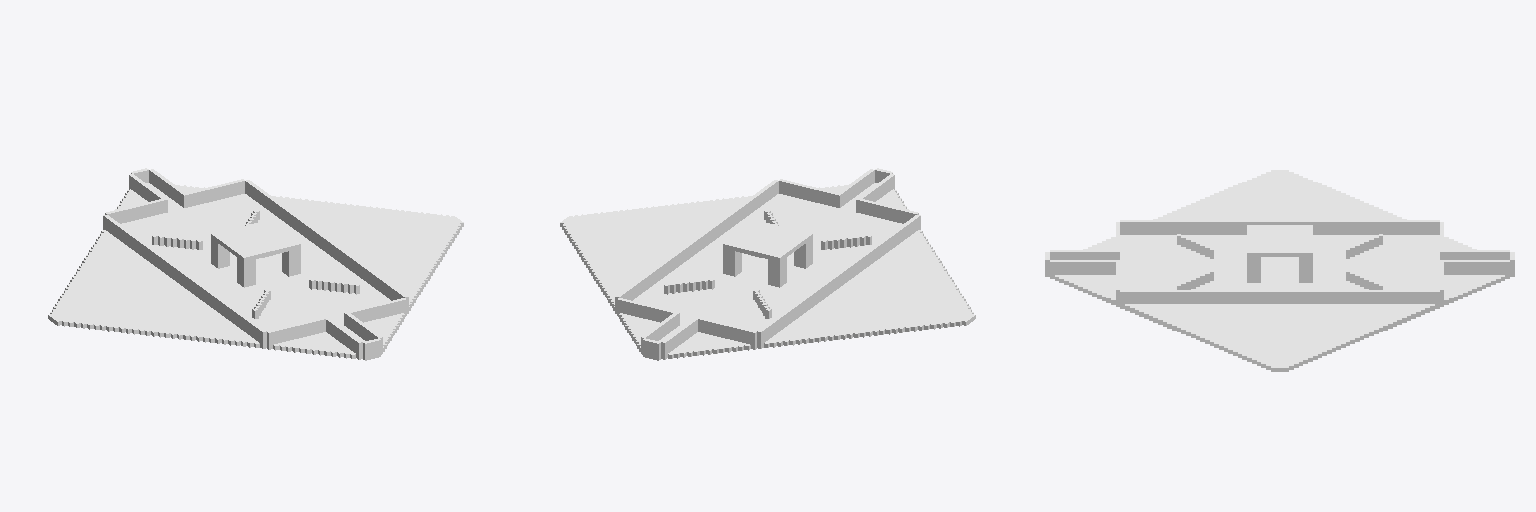
Rendered from arena.obj.
3 renders of one model, left to right at view 1: azimuth 30°, elevation 25°; view 2: azimuth 150°, elevation 25°; view 3: azimuth 270°, elevation 25°, orthographic.
Parts seen in each view (by area): view 1: arena; view 2: arena; view 3: arena.
Part boxes in pixels (x1,y1,x2,y2): arena: (48,168,463,360); arena: (560,168,975,360); arena: (1045,170,1514,371).
Bounding box in the file's own units: 10 × 0.8 × 10.